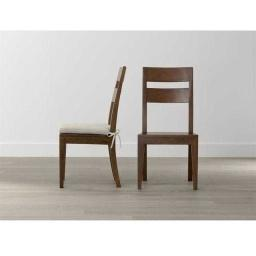Chair: (61, 67, 124, 193), (138, 67, 199, 190)
